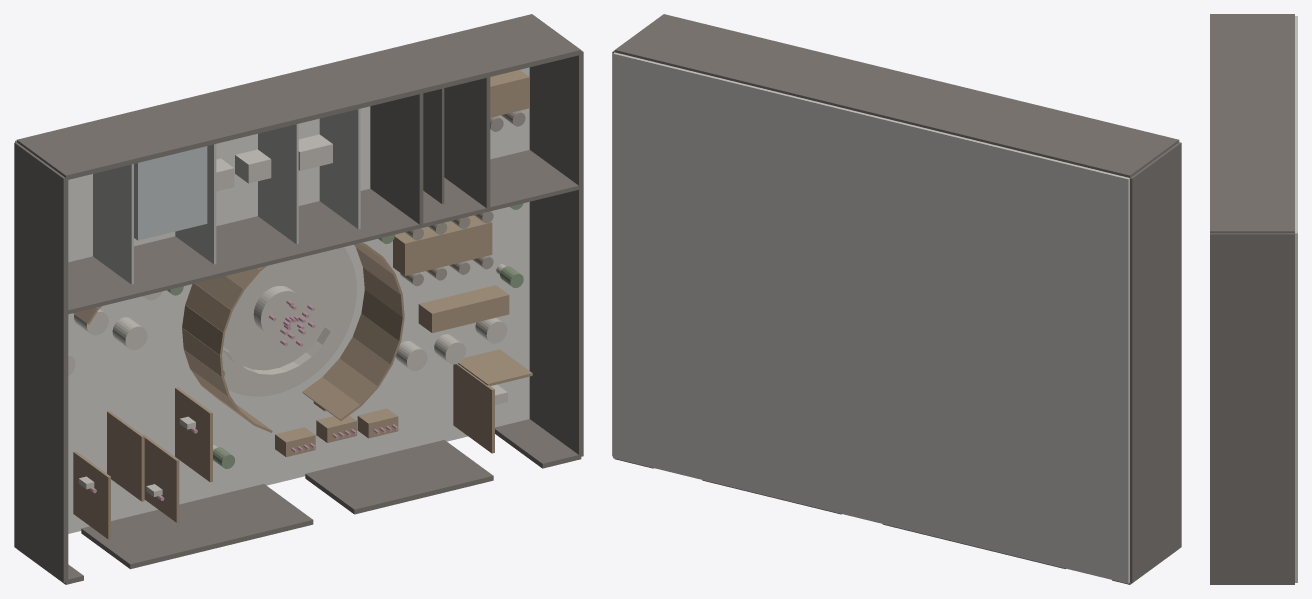
The model's file is Casa_Magnolia_3D_V2_Arquitectura.glb.
The picture shows the model from 3 angles, left to right: view 1: azimuth 30°, elevation 25°; view 2: azimuth 150°, elevation 25°; view 3: azimuth 270°, elevation 25°; orthographic projection. The views are drawn at different scales.
Parts seen in each view (by area): view 1: Piso, Norte, Oeste, Este, Backstage_frente, Corazon_piso, Sur_1, Sur_2, Backstage_lateral, Cuarto_frio, Banos_este, Backstage_div_0 (+33 smaller); view 2: Piso, Norte, Oeste; view 3: Este, Norte, Piso.
Boxes of the visible parts, x1,y1,x2,y2 form: Piso: (15,67,529,533); Norte: (16,14,581,180); Oeste: (14,142,68,582); Este: (529,50,583,457); Backstage_frente: (66,188,421,314); Corazon_piso: (222,247,356,396); Sur_1: (81,484,313,569); Sur_2: (305,440,493,514); Backstage_lateral: (370,91,423,226); Cuarto_frio: (134,146,207,240); Banos_este: (444,74,490,209); Backstage_div_0: (93,164,133,284); Piso: (613,52,1129,583); Norte: (614,14,1179,177); Oeste: (1130,142,1181,582); Este: (1210,233,1294,583); Norte: (1210,14,1294,233); Piso: (1295,16,1297,582).
Bounding box in the file's own units: 20.18 × 15.18 × 3.42.
